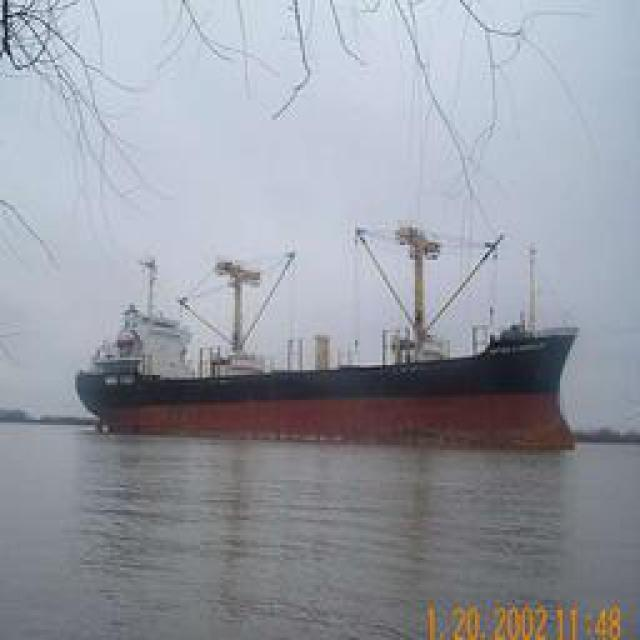Ship: (72, 223, 582, 438)
